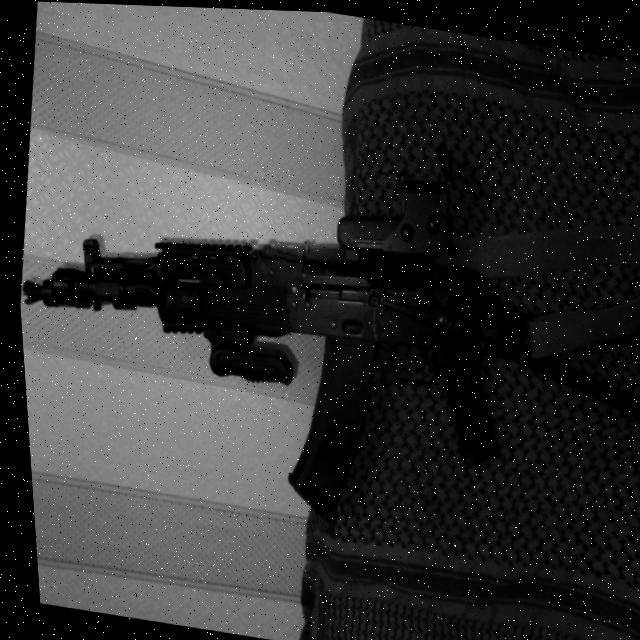firearm: (6, 109, 640, 572)
